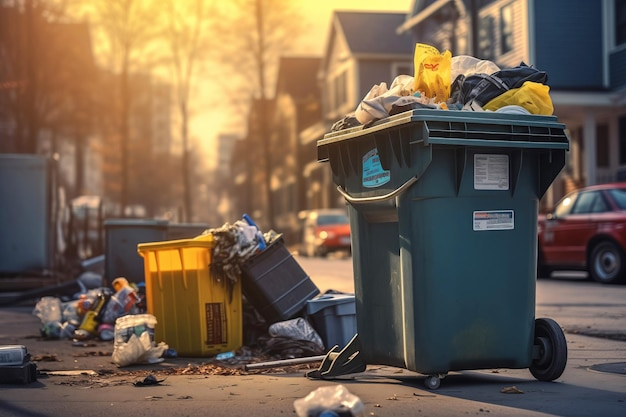full: (318, 99, 573, 382)
